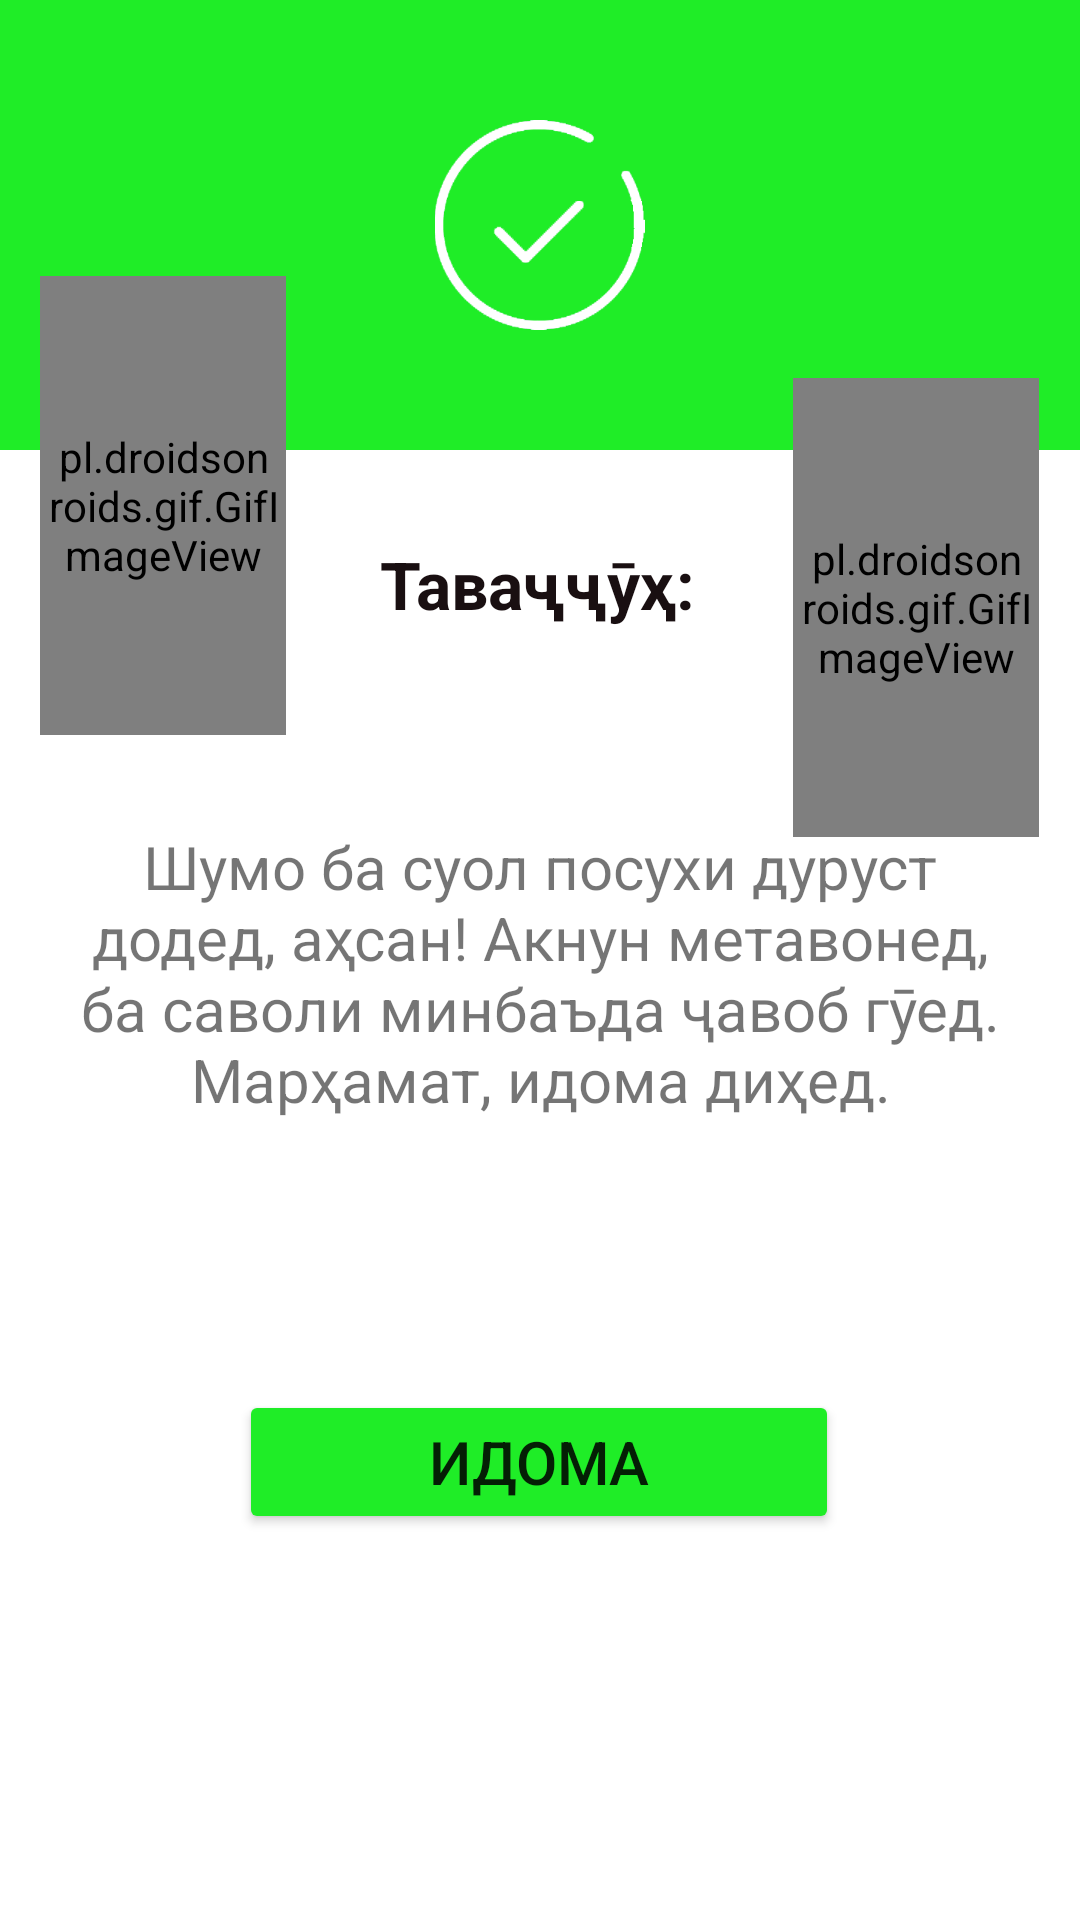

Locate icon controls on the screen. Image size 1080 × 1920, boxes as {"left": x1, "top": y1, "right": x2, "bottom": y2}.
currect: {"left": 435, "top": 120, "right": 645, "bottom": 330}
